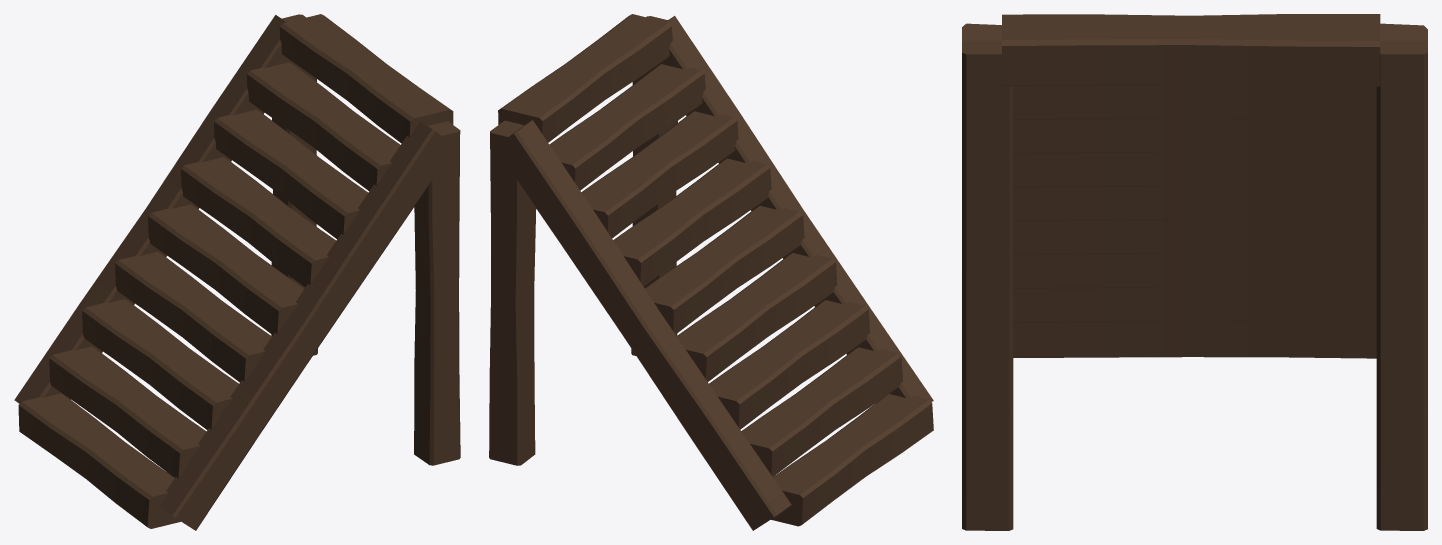
Rendered from StairSet2.fbx.
The picture shows the model from 3 angles, left to right: view 1: azimuth 30°, elevation 25°; view 2: azimuth 150°, elevation 25°; view 3: azimuth 270°, elevation 25°; orthographic projection. The views are drawn at different scales.
Parts seen in each view (by area): view 1: Cube.031; view 2: Cube.031; view 3: Cube.031.
Boxes of the visible parts, x1,y1,x2,y2 form: Cube.031: (14, 14, 460, 530); Cube.031: (489, 14, 933, 530); Cube.031: (962, 14, 1427, 530).
Size of the model in its own units: 2.45 by 2.65 by 2.22.
